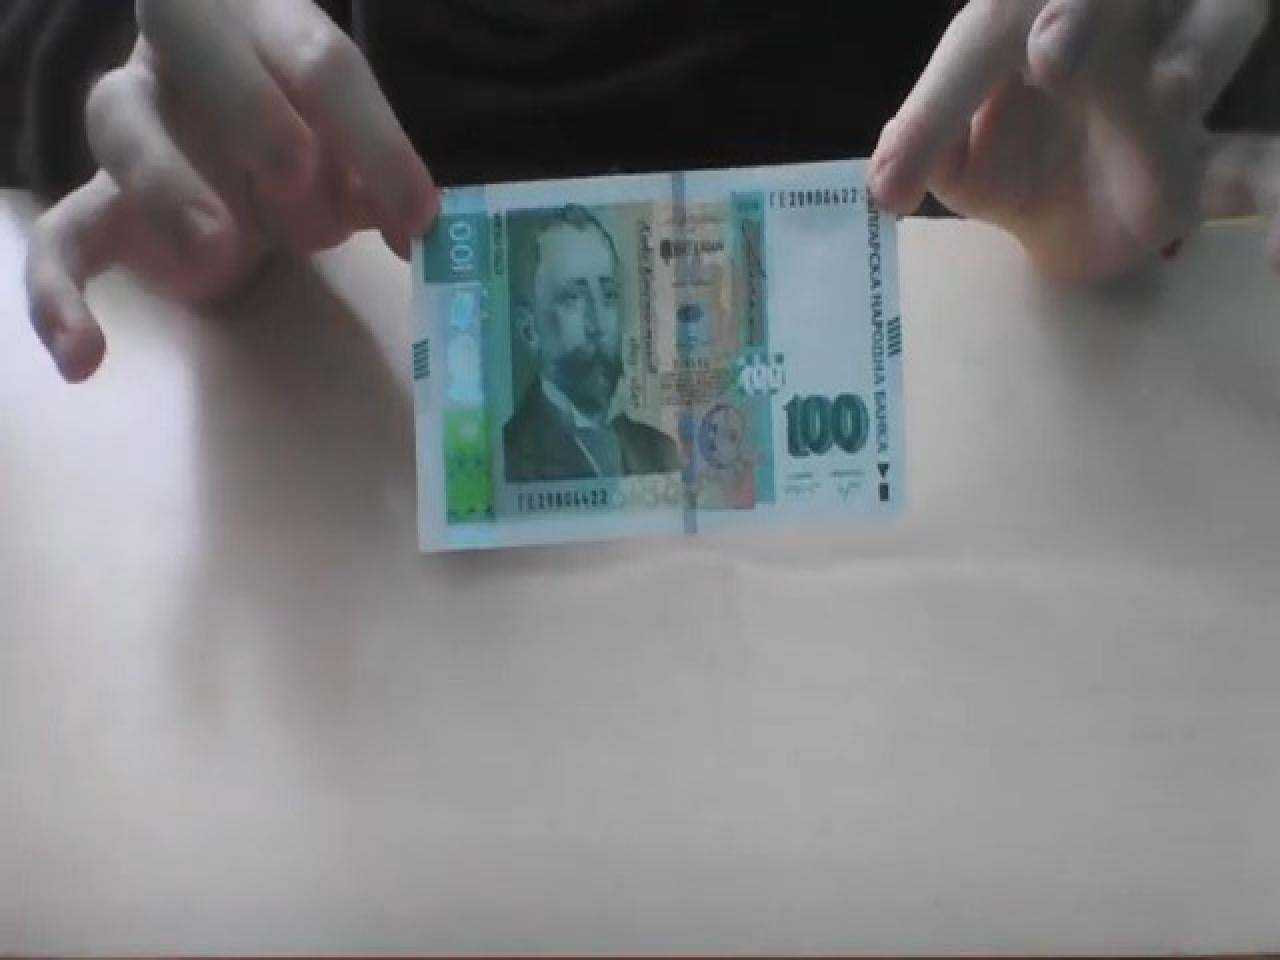100leva: (410, 160, 916, 555)
